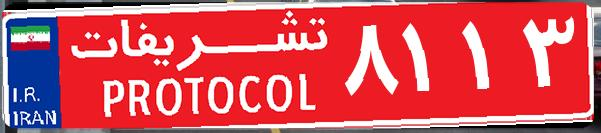1: (400, 20, 460, 115), (460, 20, 520, 115)
3: (520, 20, 580, 115)
8: (340, 20, 400, 115)
تشریفات: (60, 8, 340, 125)
